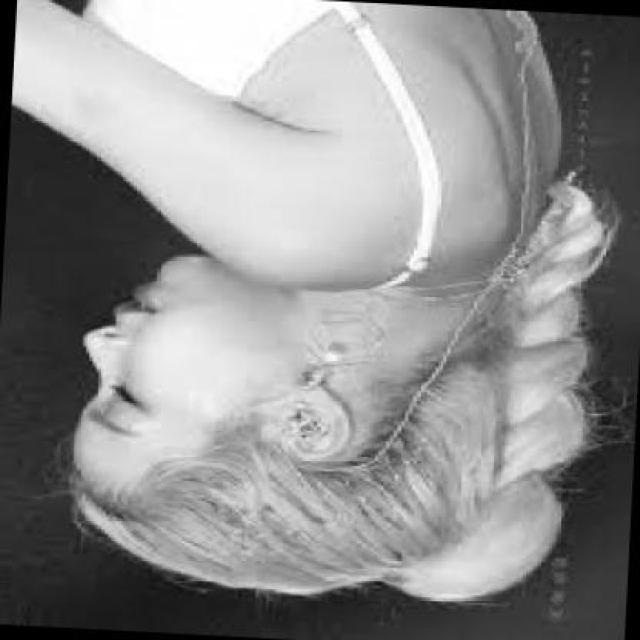earphone: (279, 396, 340, 454)
